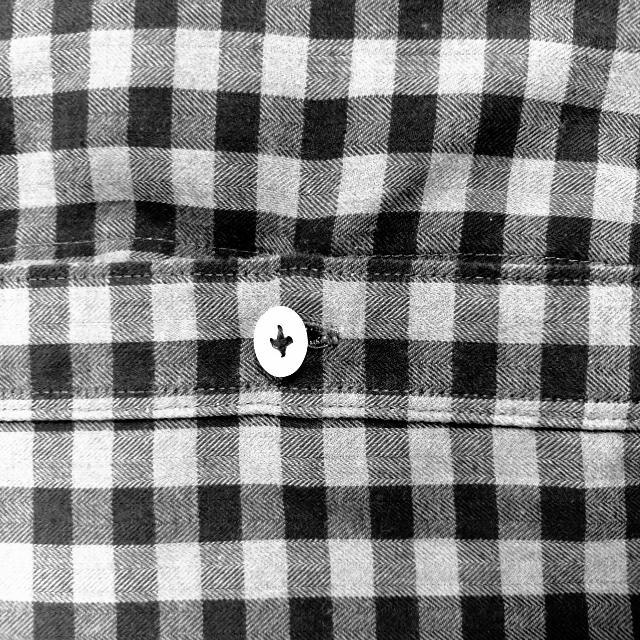Button_hike: (252, 297, 343, 388)
